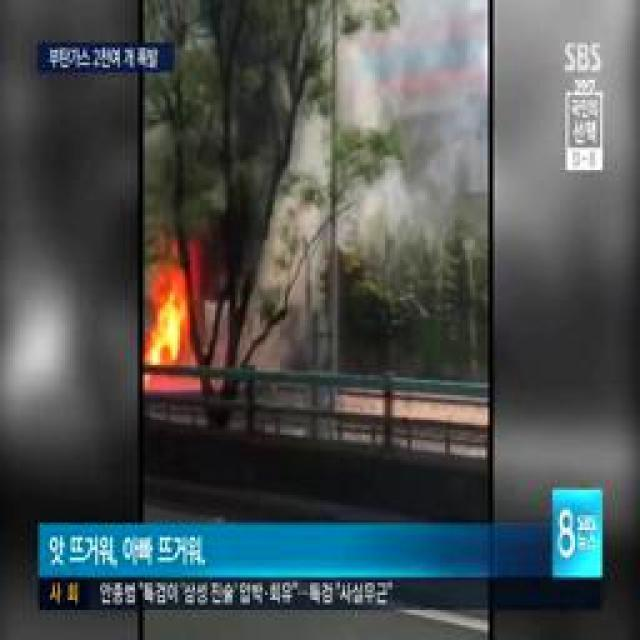Fire: (150, 293, 191, 390)
